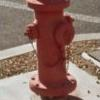Hydrant: (20, 0, 84, 100)
